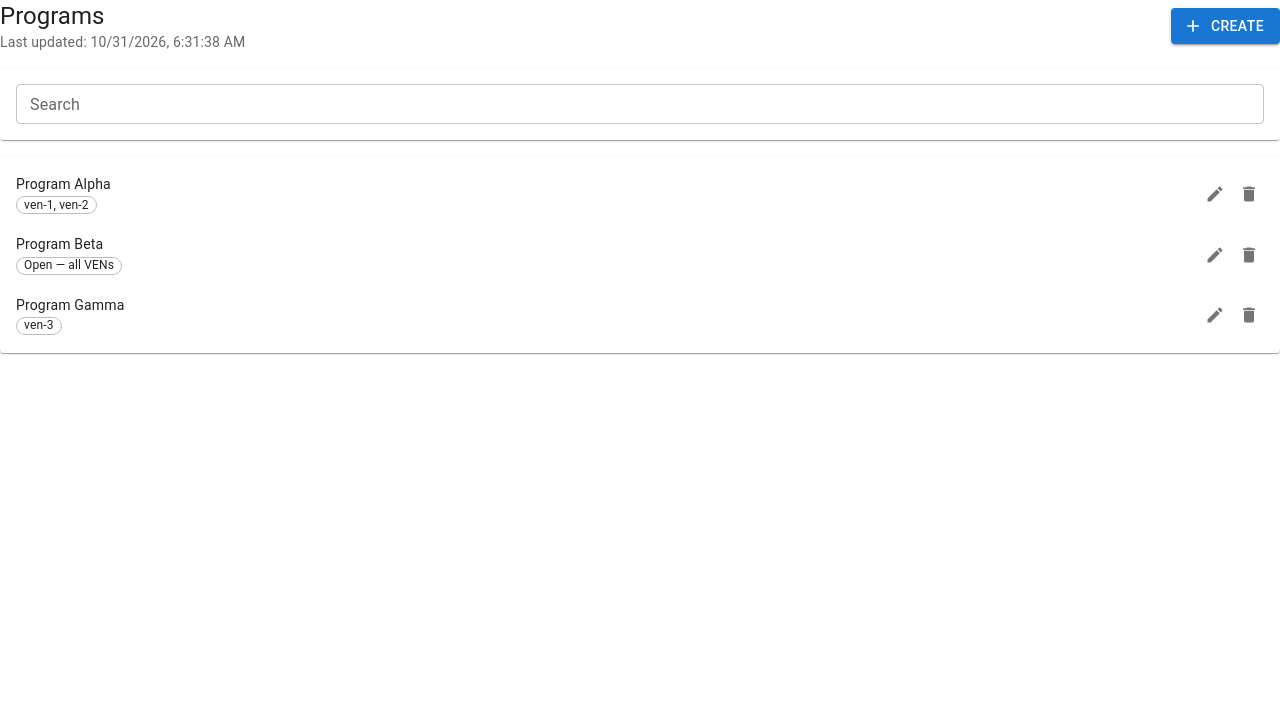
ProgramsPage › opens confirm dialog on delete click
Click the button with test id "delete-program-p1".
click(1249, 194)  # box [1234, 179, 1264, 209]
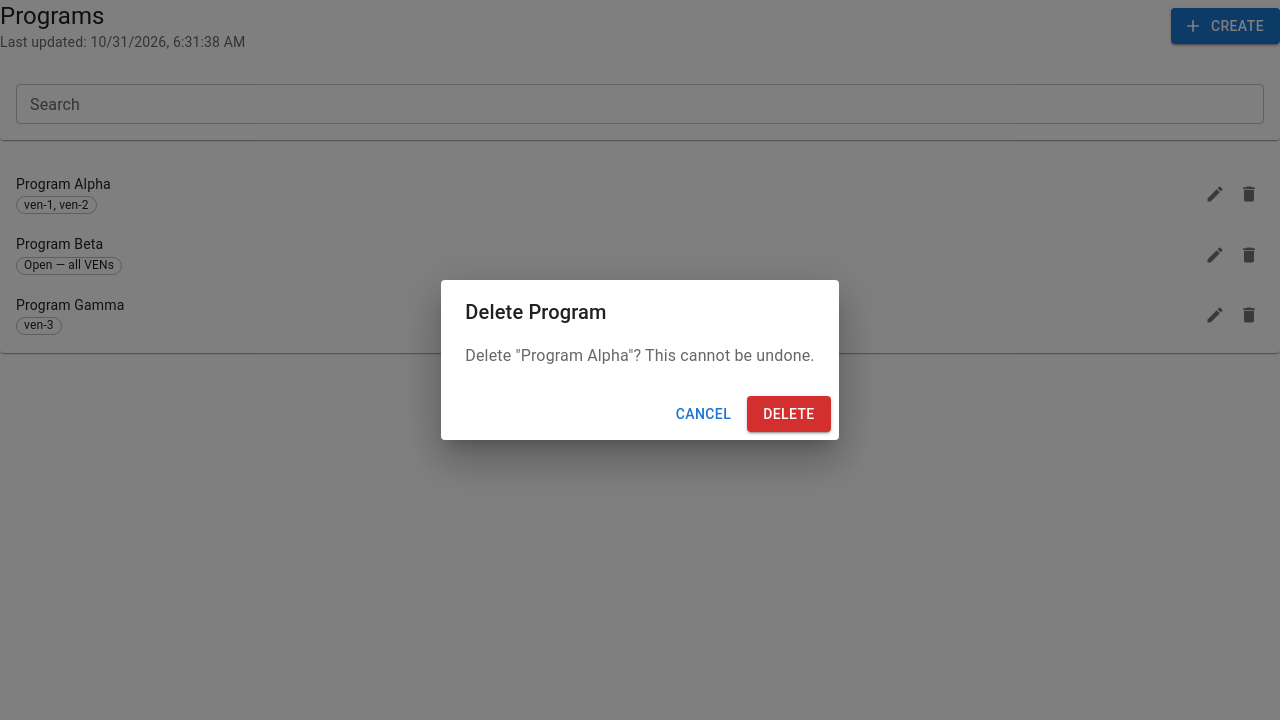
Expected: the element with test id "confirm-dialog" is shown
